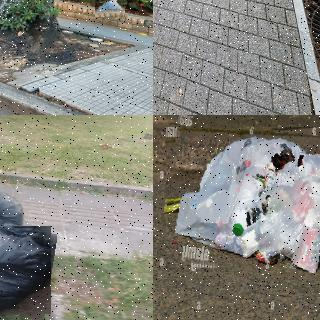Garbage: (161, 120, 320, 278), (0, 222, 53, 317), (0, 187, 25, 231), (94, 0, 126, 18)
